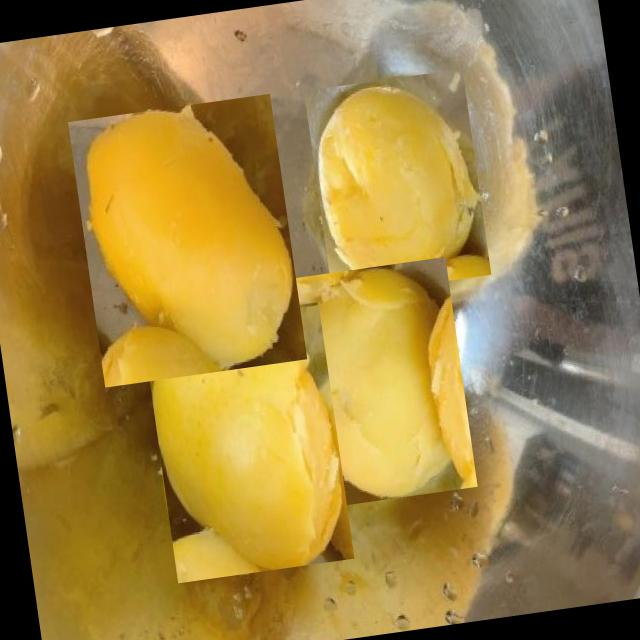Potato: (68, 92, 307, 386), (143, 304, 354, 582), (281, 256, 478, 509), (304, 68, 491, 296)
